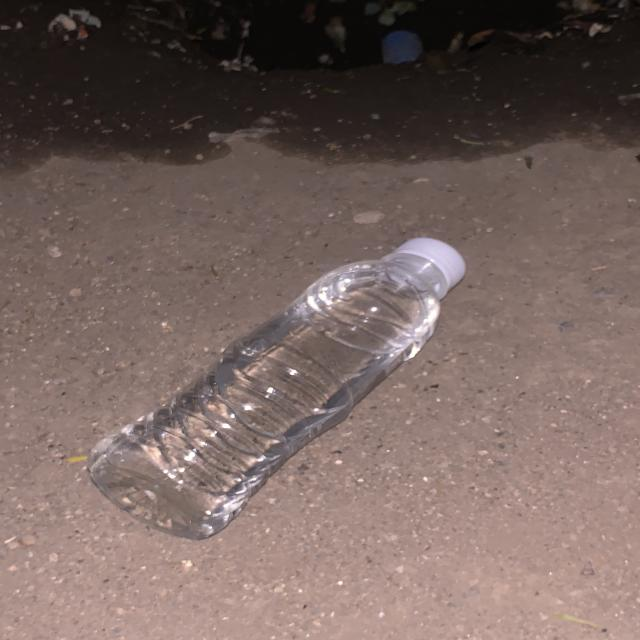Bottle: (90, 238, 465, 539)
